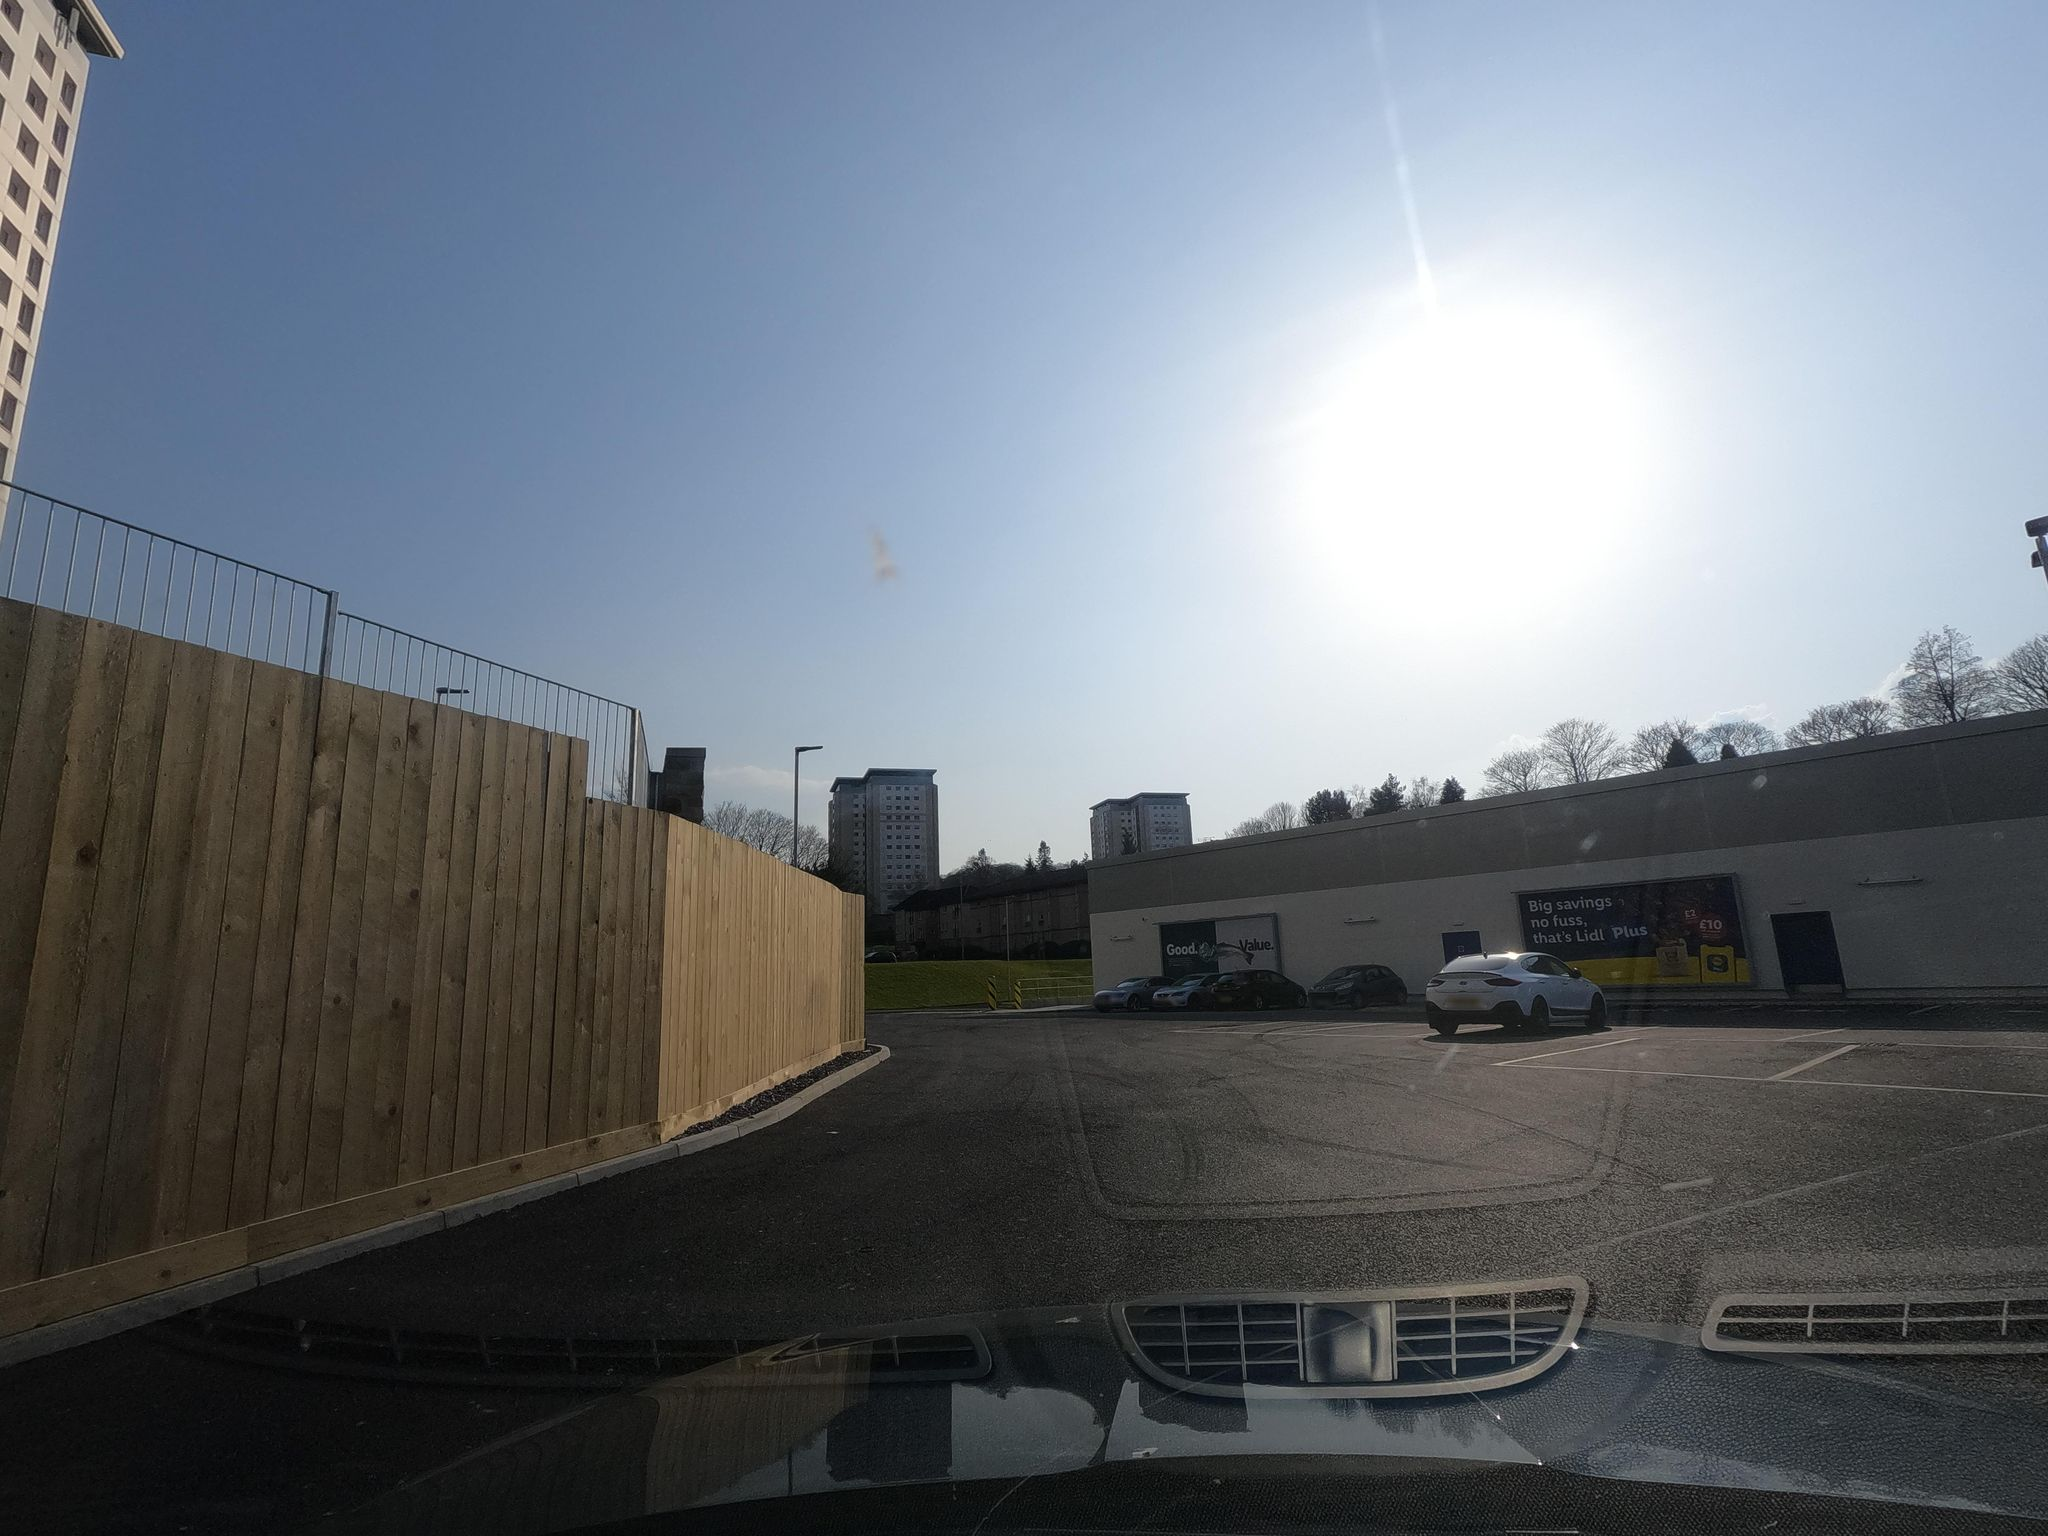car: (1426, 950, 1608, 1033), (1306, 963, 1408, 1008), (1209, 970, 1306, 1012), (1093, 975, 1172, 1010), (1151, 971, 1226, 1008)
